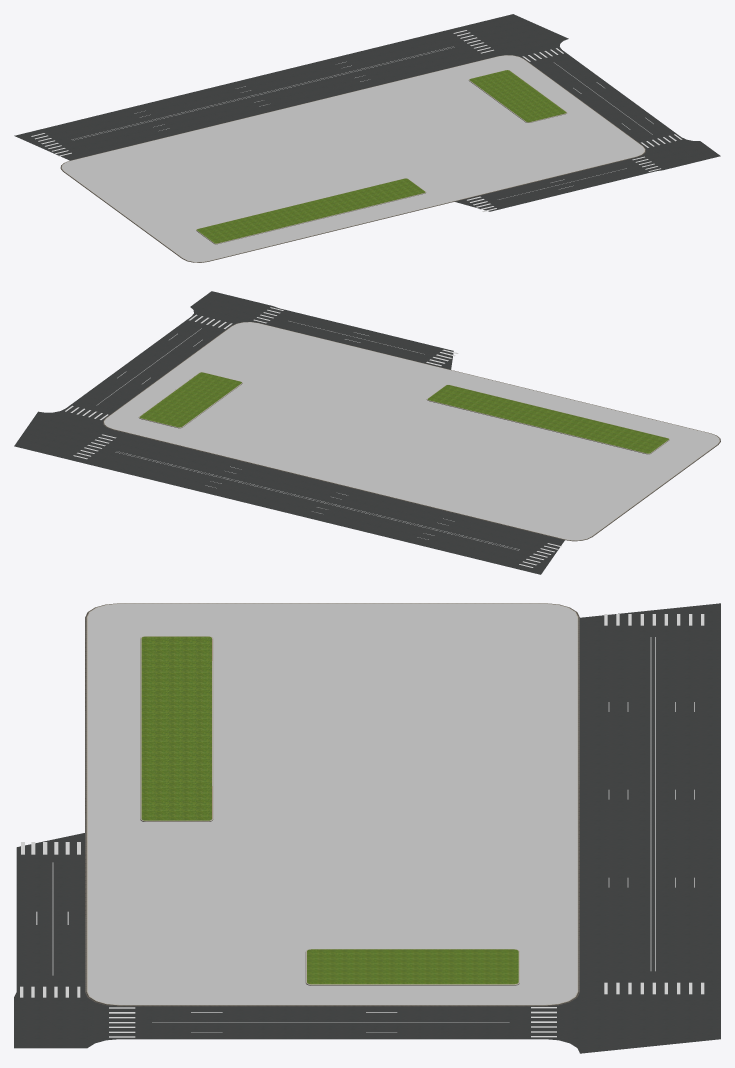
Rendered from Terrain_Area_06.fbx.
3 renders of one model, top to bottom at view 1: azimuth 30°, elevation 25°; view 2: azimuth 150°, elevation 25°; view 3: azimuth 270°, elevation 25°, orthographic. The views are drawn at different scales.
Parts seen in each view (by area): view 1: Area_06, Road_24, Road_Alpha_07; view 2: Area_06, Road_24, Road_Alpha_07; view 3: Area_06, Road_24, Road_Alpha_07, Road_Alpha_22, Road_Alpha_25.
Boxes of the visible parts, x1,y1,x2,y2 form: Area_06: (60,55,645,262); Road_24: (14,14,720,211); Road_Alpha_07: (31,30,493,156); Area_06: (103,322,720,541); Road_24: (14,291,564,574); Road_Alpha_07: (73,434,561,567); Area_06: (85,603,579,1006); Road_24: (14,603,720,1053); Road_Alpha_07: (604,614,704,994); Road_Alpha_22: (109,1007,556,1037); Road_Alpha_25: (20,842,80,997).
Bounding box in the file's own units: 15744 × 21.84 × 10445.
